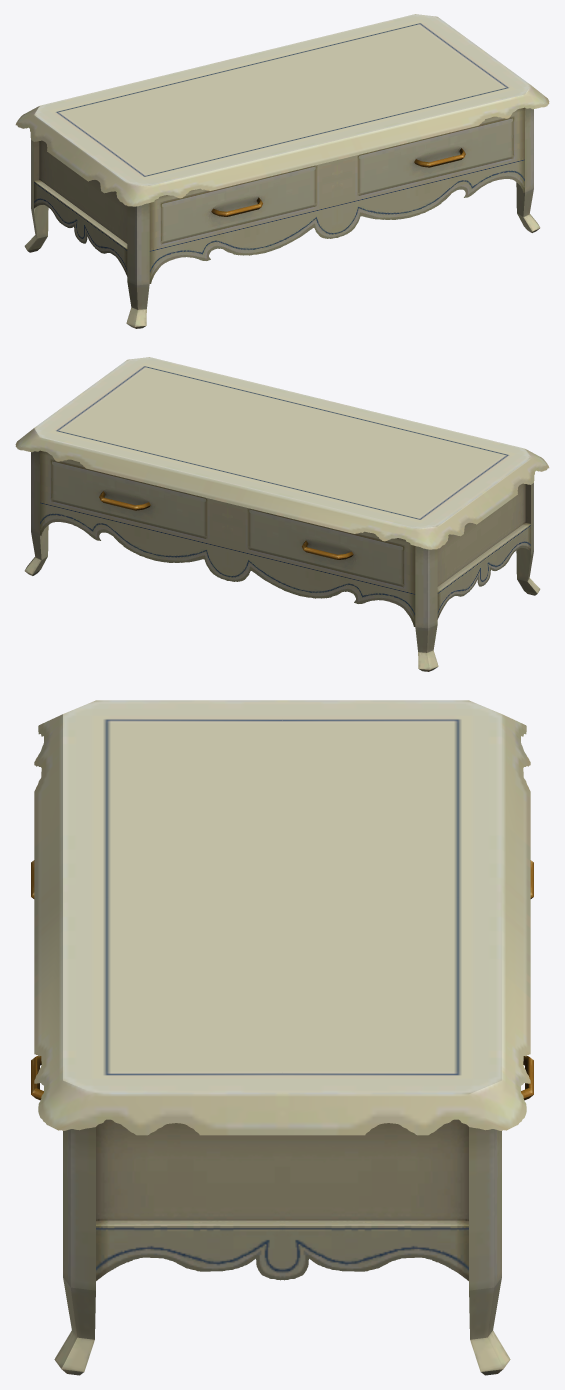
Rendered from furni_0200058.FBX.
The picture shows the model from 3 angles, top to bottom: view 1: azimuth 30°, elevation 25°; view 2: azimuth 150°, elevation 25°; view 3: azimuth 270°, elevation 25°; orthographic projection. The views are drawn at different scales.
Parts seen in each view (by area): view 1: furni_0200058; view 2: furni_0200058; view 3: furni_0200058.
Part boxes in pixels (x1,y1,x2,y2): furni_0200058: (15, 14, 549, 328); furni_0200058: (15, 357, 549, 671); furni_0200058: (31, 700, 533, 1375).
Bounding box in the file's own units: 160 × 50 × 81.05.
